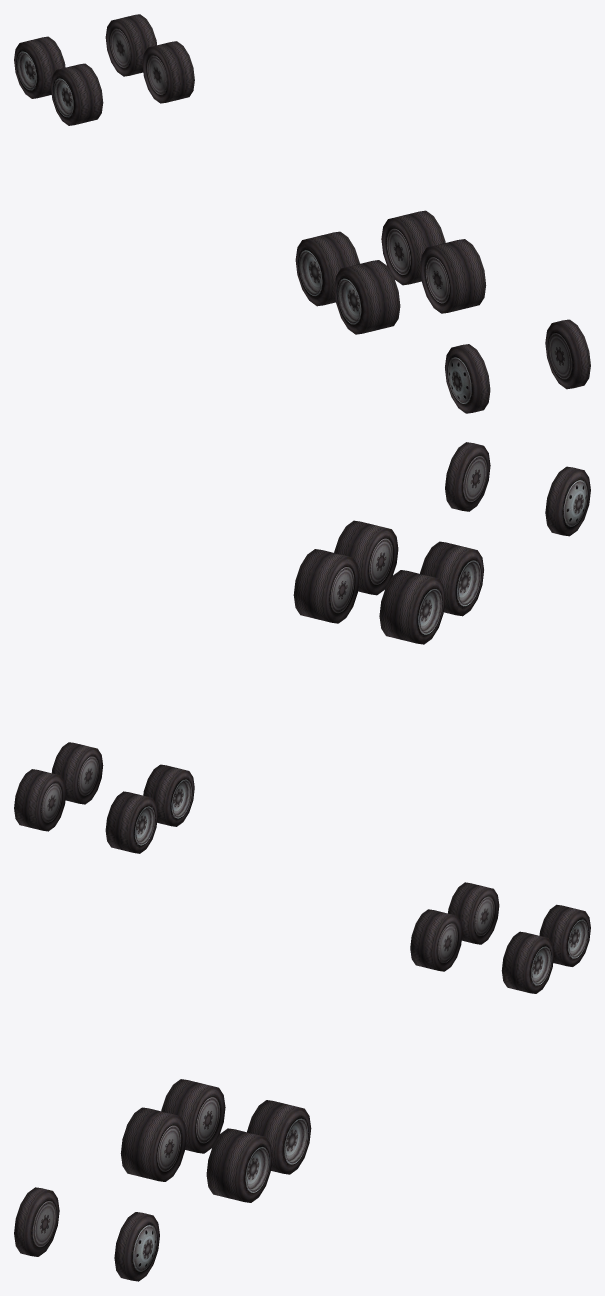
File: mack_rodas.glb
3 views of the same model, one above another, from view 1: azimuth 30°, elevation 25°; view 2: azimuth 150°, elevation 25°; view 3: azimuth 330°, elevation 25° (orthographic).
Visible parts, largest first — view 1: roda_6, roda_1, roda_2, roda_7, roda_8, roda_3, roda_5, roda_0, roda_4, roda_9; view 2: roda_2, roda_7, roda_1, roda_6, roda_4, roda_9, roda_5, roda_0, roda_3, roda_8; view 3: roda_6, roda_1, roda_7, roda_2, roda_3, roda_8, roda_0, roda_5, roda_4, roda_9.
Part boxes in pixels (x1=…): roda_6: x1=420, y1=239, x2=486, y2=313; roda_1: x1=334, y1=260, x2=400, y2=334; roda_2: x1=295, y1=231, x2=359, y2=306; roda_7: x1=381, y1=210, x2=445, y2=285; roda_8: x1=142, y1=41, x2=194, y2=103; roda_3: x1=51, y1=63, x2=103, y2=125; roda_5: x1=545, y1=319, x2=590, y2=389; roda_0: x1=445, y1=344, x2=490, y2=413; roda_4: x1=14, y1=36, x2=65, y2=98; roda_9: x1=105, y1=14, x2=156, y2=76; roda_2: x1=379, y1=570, x2=445, y2=644; roda_7: x1=293, y1=549, x2=359, y2=623; roda_1: x1=420, y1=541, x2=483, y2=616; roda_6: x1=334, y1=520, x2=398, y2=595; roda_4: x1=105, y1=791, x2=157, y2=853; roda_9: x1=14, y1=769, x2=66, y2=831; roda_5: x1=445, y1=442, x2=490, y2=511; roda_0: x1=545, y1=466, x2=590, y2=536; roda_3: x1=143, y1=764, x2=194, y2=826; roda_8: x1=51, y1=742, x2=103, y2=804; roda_6: x1=206, y1=1128, x2=272, y2=1202; roda_1: x1=120, y1=1107, x2=186, y2=1181; roda_7: x1=247, y1=1100, x2=311, y2=1174; roda_2: x1=161, y1=1079, x2=225, y2=1153; roda_3: x1=410, y1=909, x2=462, y2=971; roda_8: x1=501, y1=931, x2=554, y2=993; roda_0: x1=14, y1=1187, x2=59, y2=1256; roda_5: x1=114, y1=1212, x2=159, y2=1281; roda_4: x1=448, y1=882, x2=499, y2=944; roda_9: x1=539, y1=904, x2=590, y2=966.
Bounding box in the file's own units: 4.23 × 2.07 × 27.59.
Materials: 1 (1 with a texture image).
